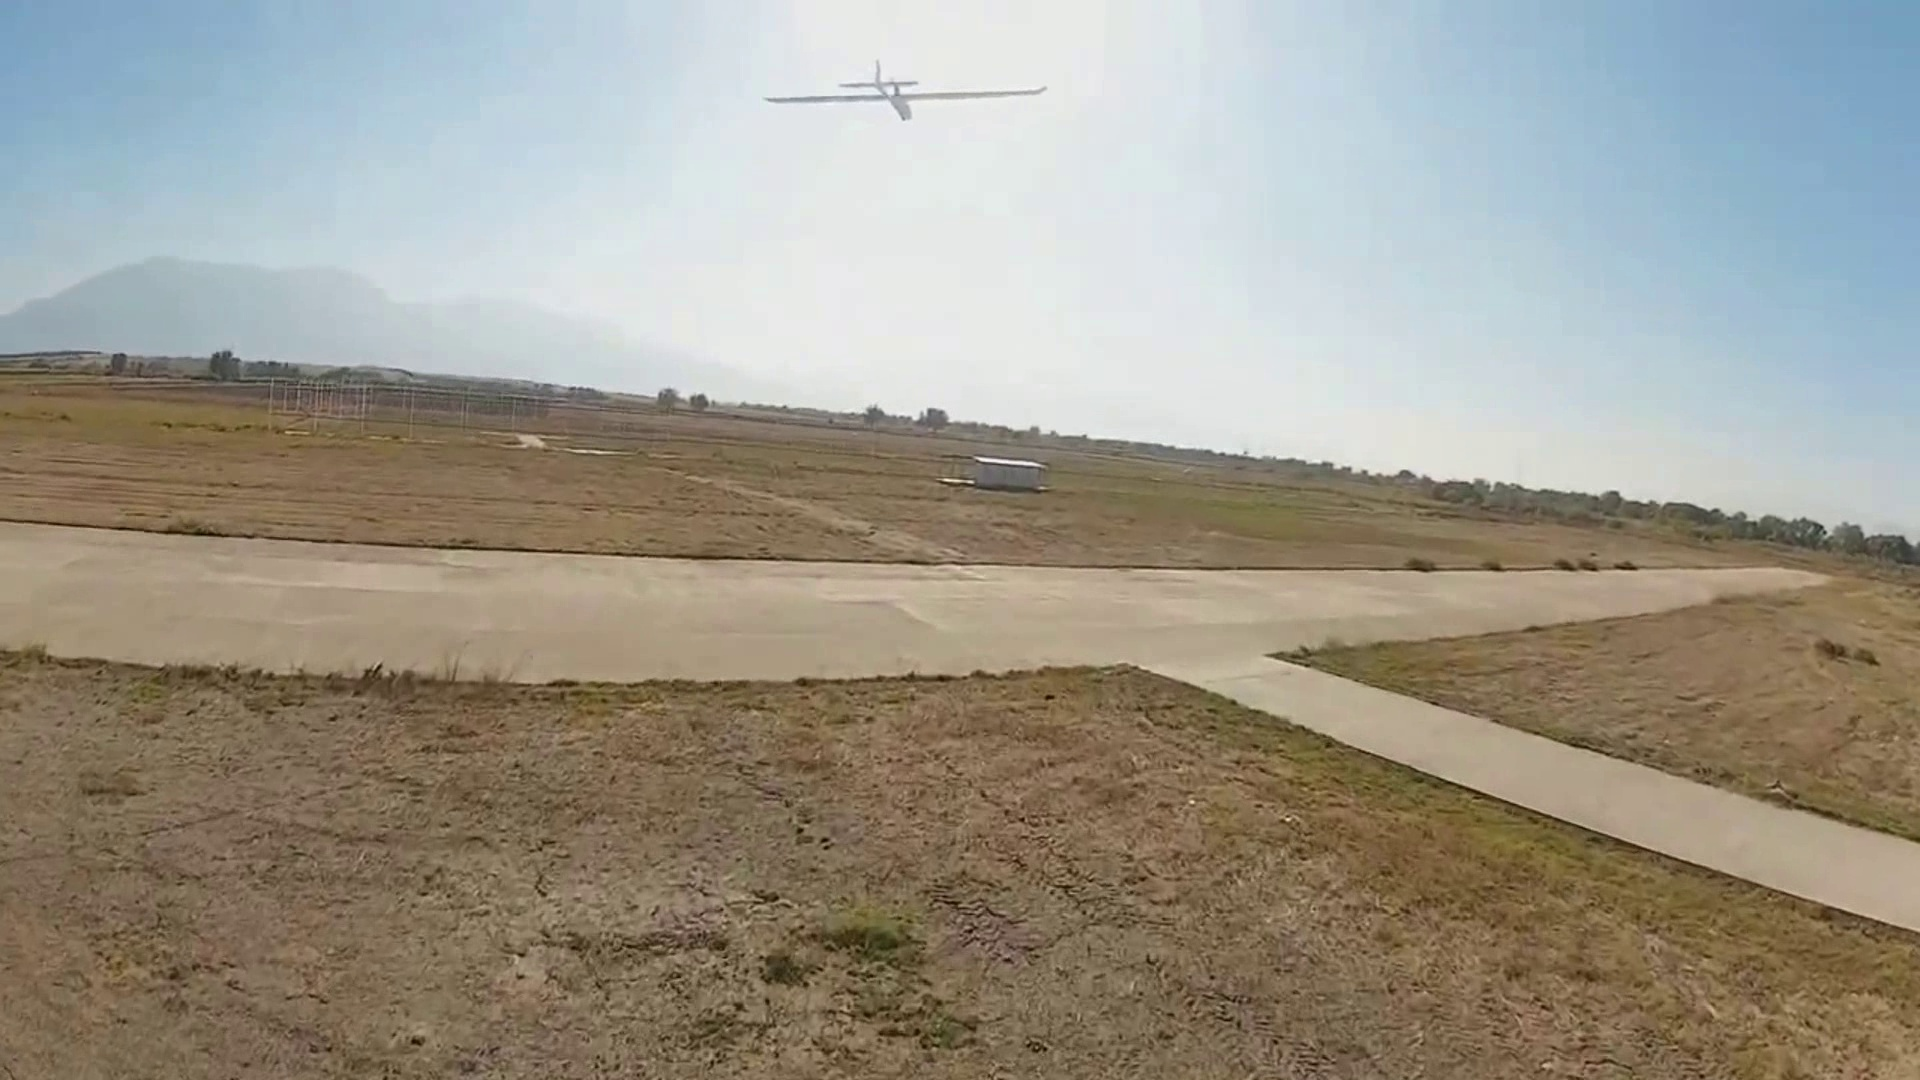airplane: (760, 67, 1052, 122)
